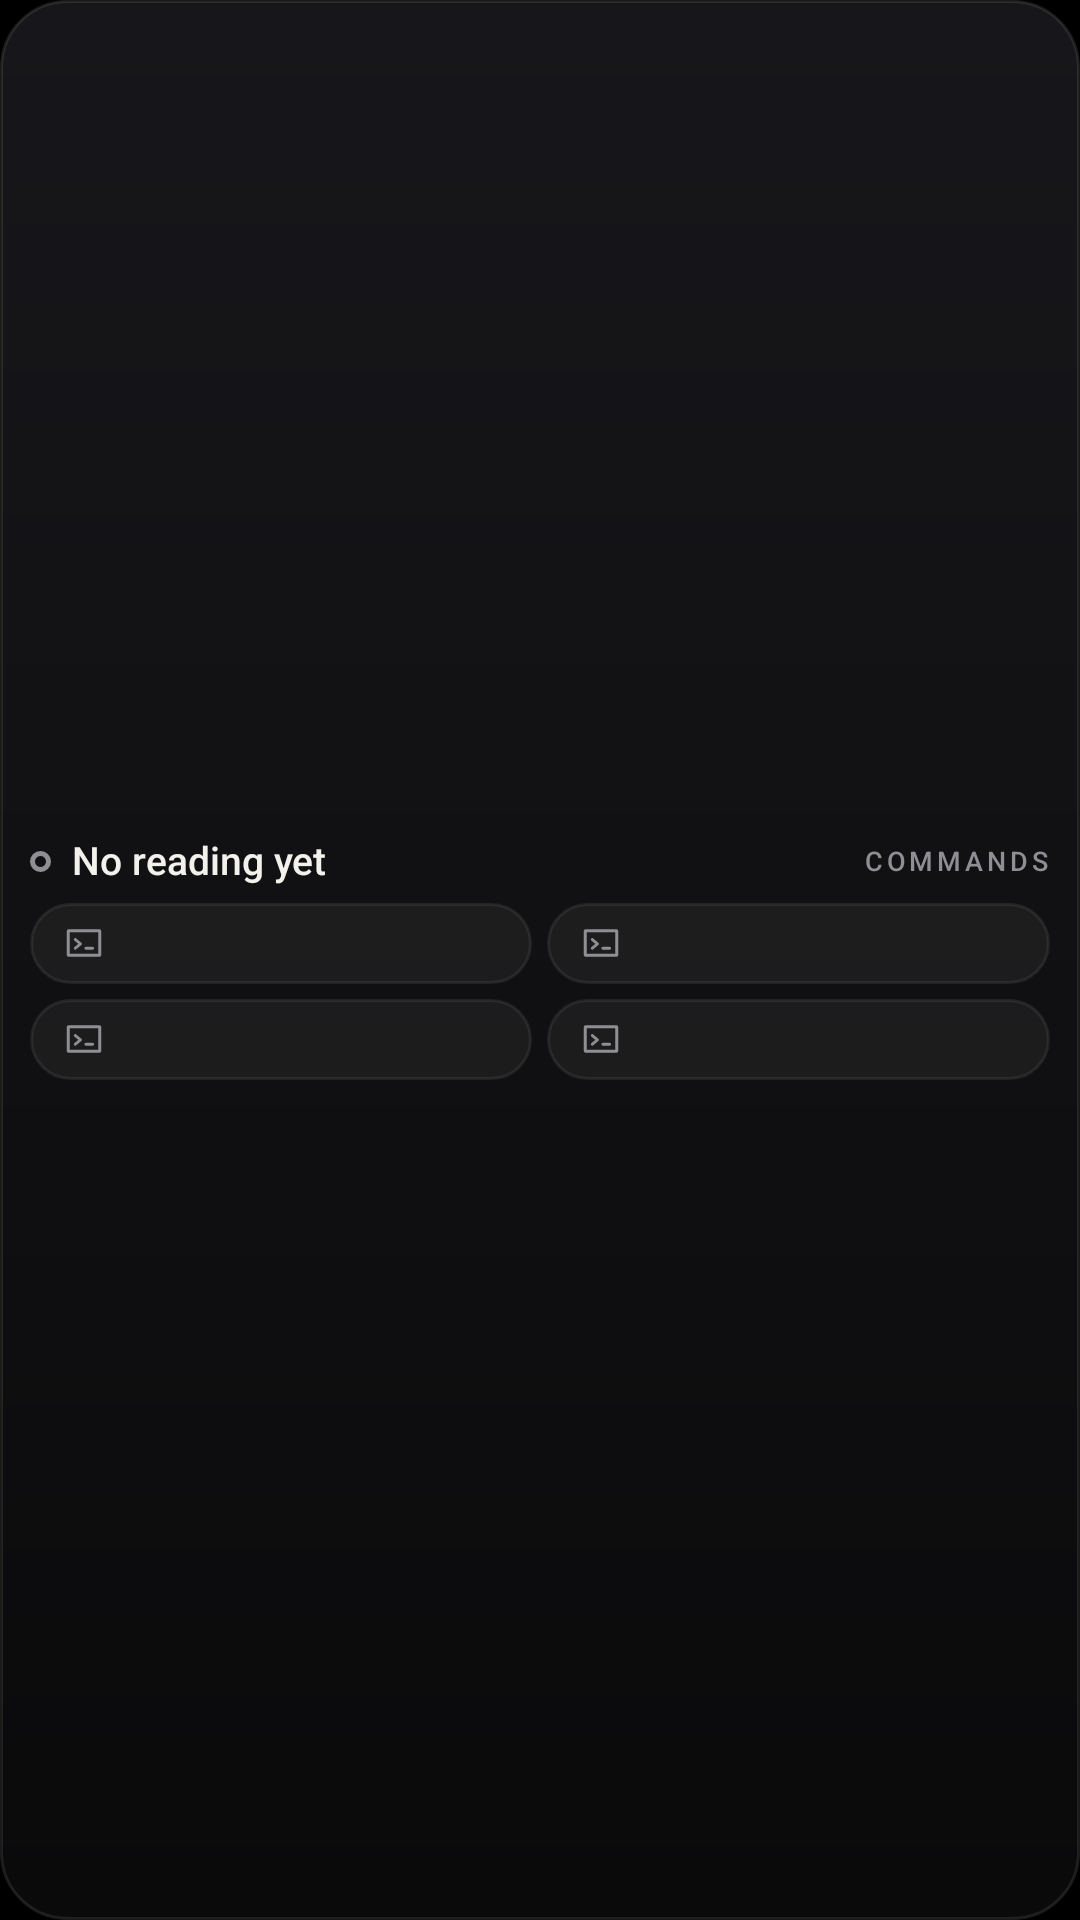

Named icons in this screenshot (1080×1920) and their bounding boxes, (left=x1, top=y1, right=x2, bottom=y2):
commands: (left=66, top=929, right=102, bottom=957), (left=583, top=929, right=619, bottom=957), (left=66, top=1025, right=102, bottom=1053), (left=583, top=1025, right=619, bottom=1053)
